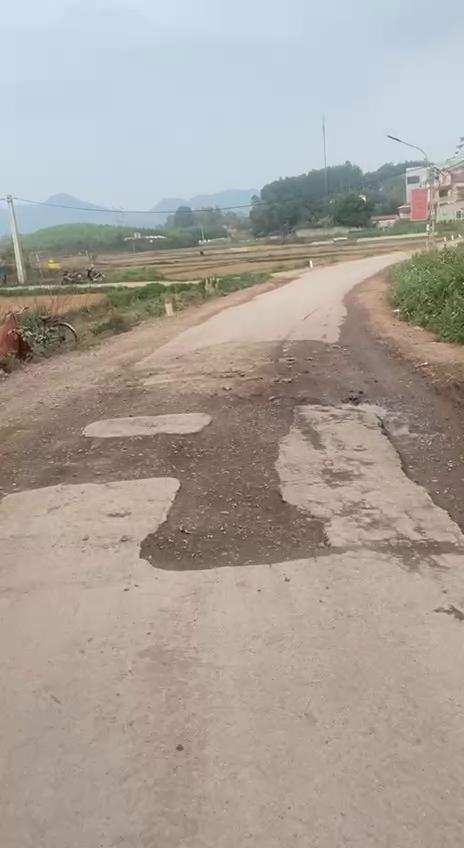pothole: (149, 428, 338, 566)
